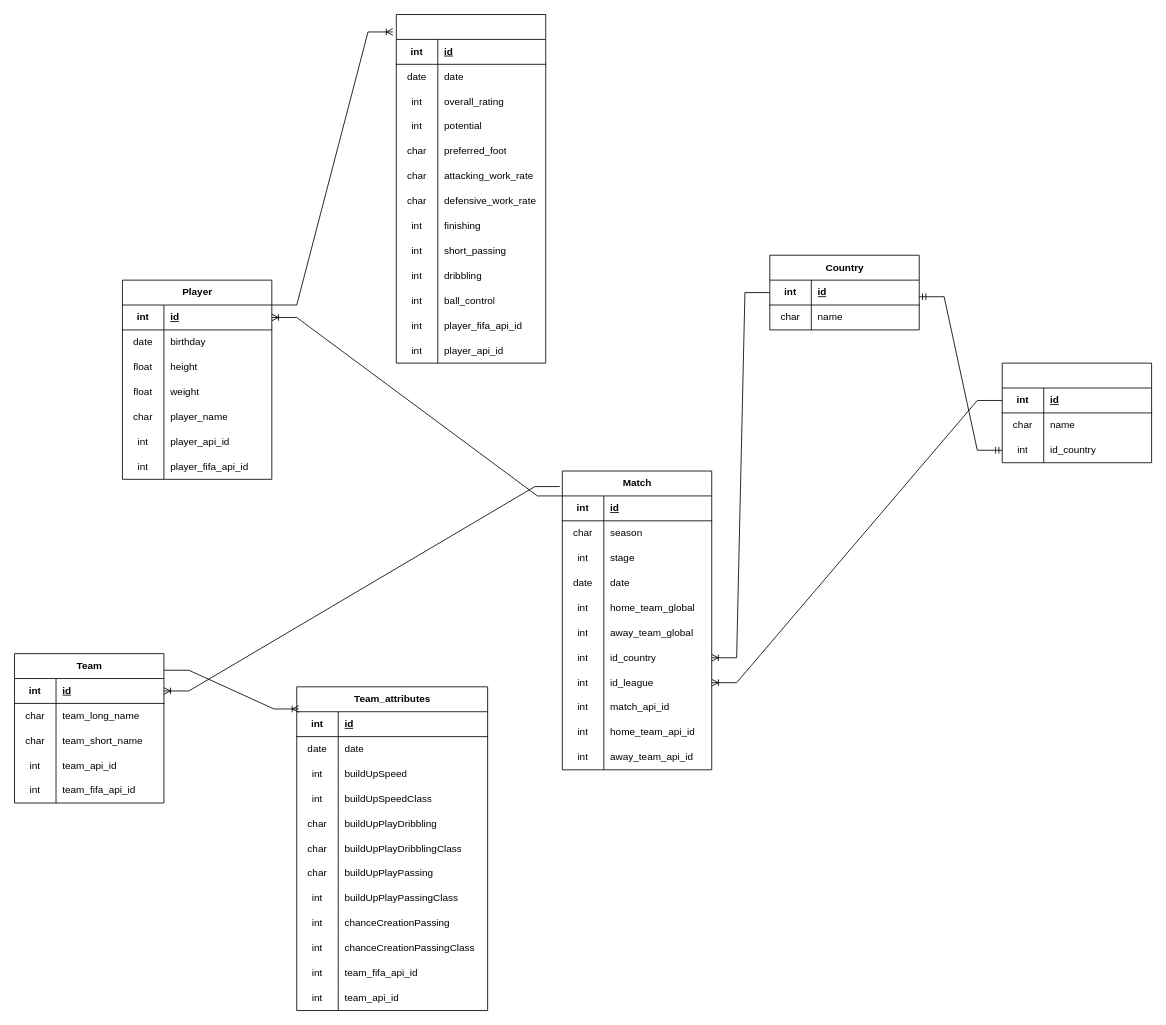
Image size: 1166x1025. Some labels were removed from this diagram. Here are the shapes that lost their labels. From the top down, the box of each, then its label:
(395, 14, 546, 363): Player_attributes
(1001, 362, 1152, 463): League
